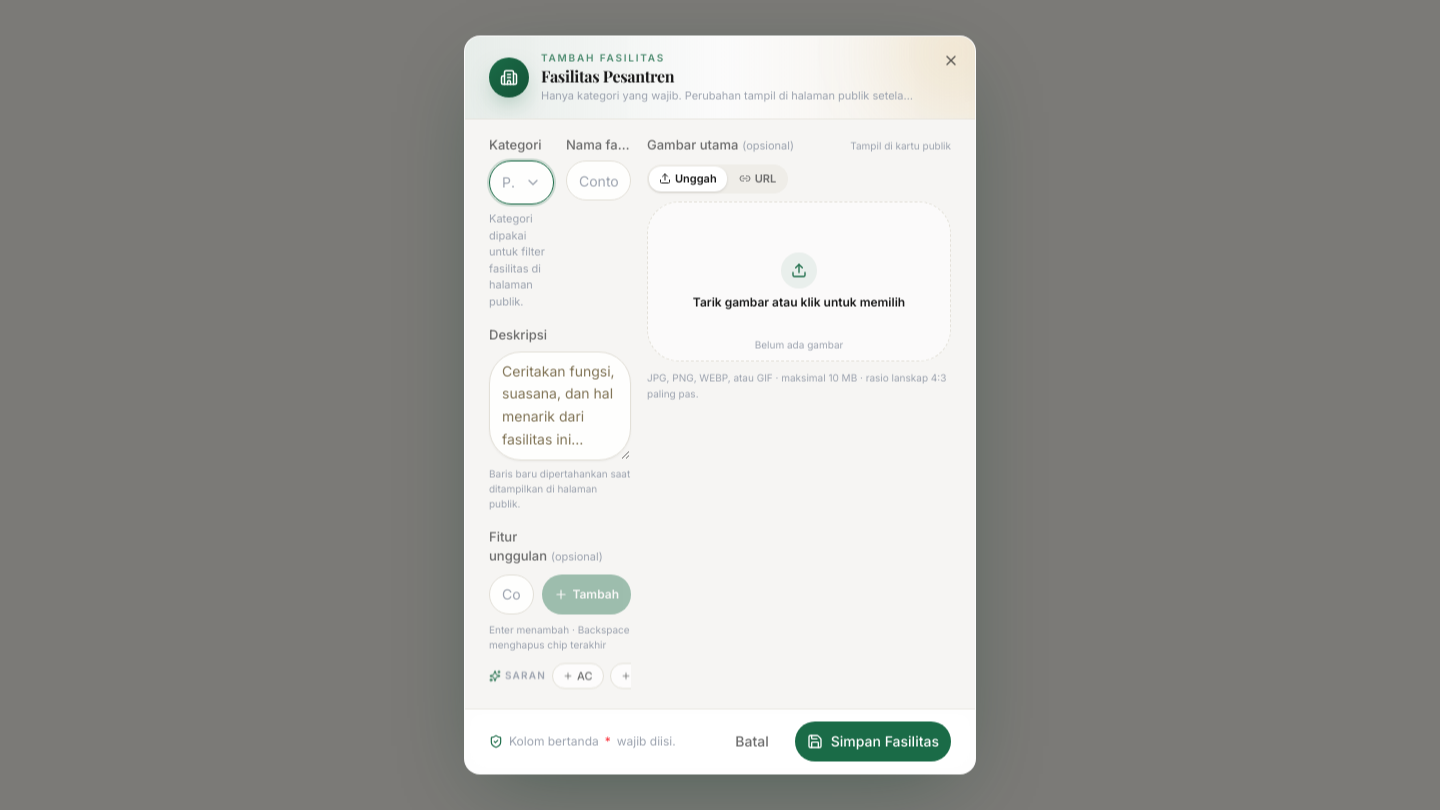
Test: FacilityFormDialog — validasi › mewajibkan kategori dan memfokuskan pemilih kategori
What coordinates should you click on to do the following:
click the button "Simpan Fasilitas"
I would click on:
 (873, 742)
Its box is [795,722,951,762].
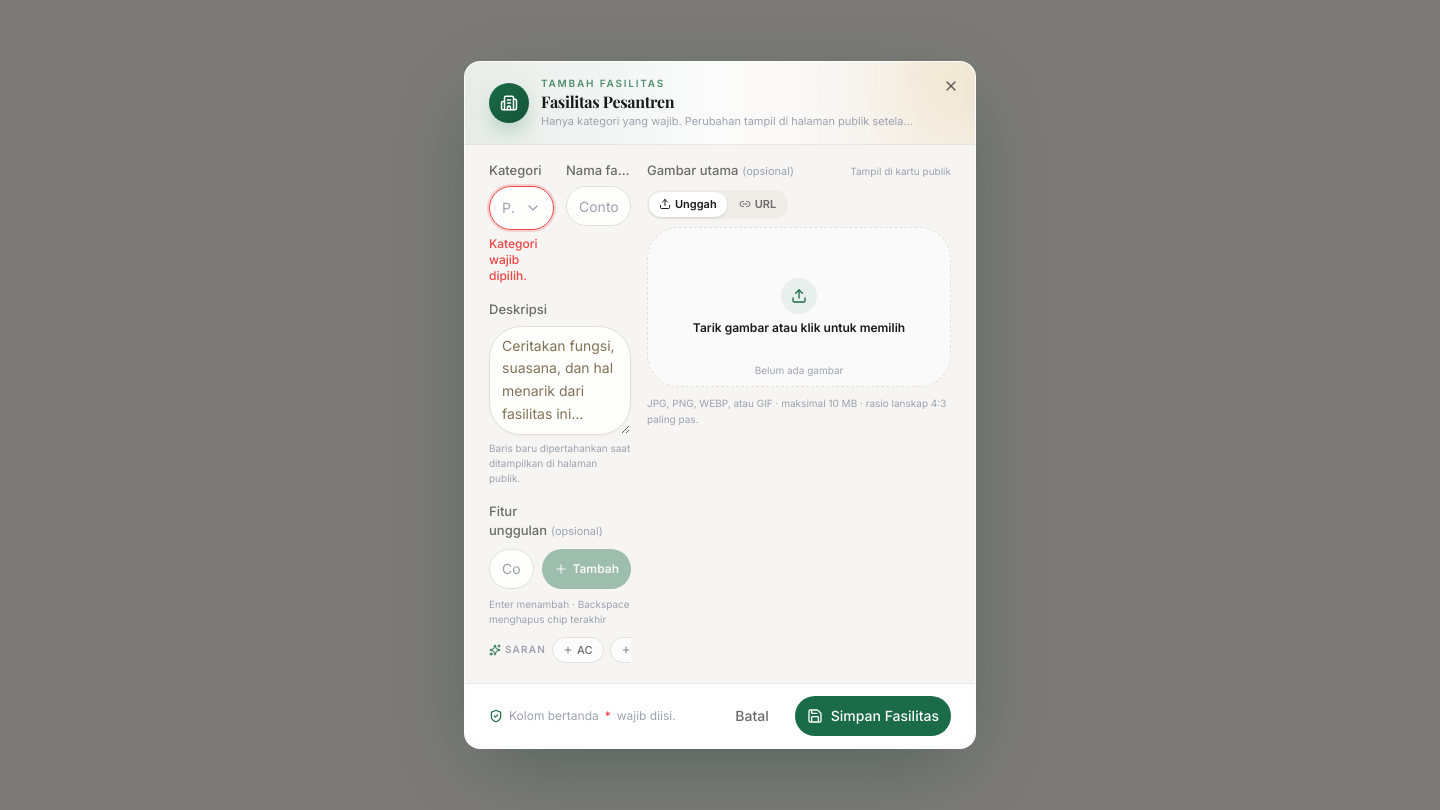
Check: the text "Kategori wajib dipilih." is shown, box [489,236,538,283]
